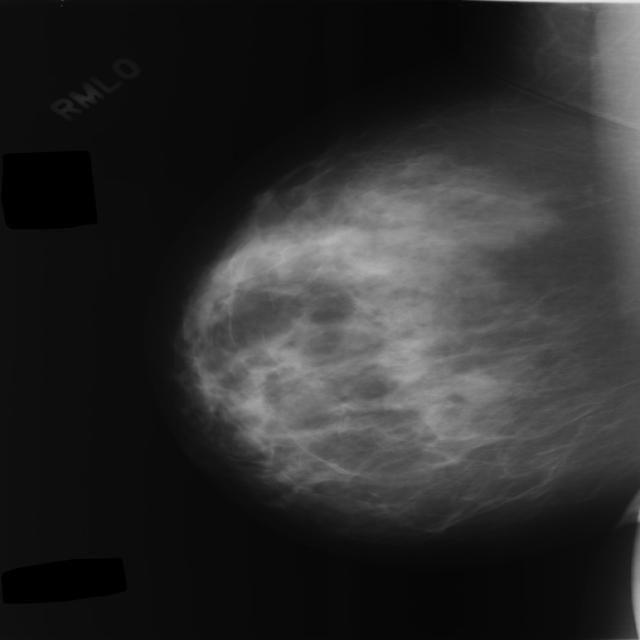tumour: (448, 369, 506, 403)
